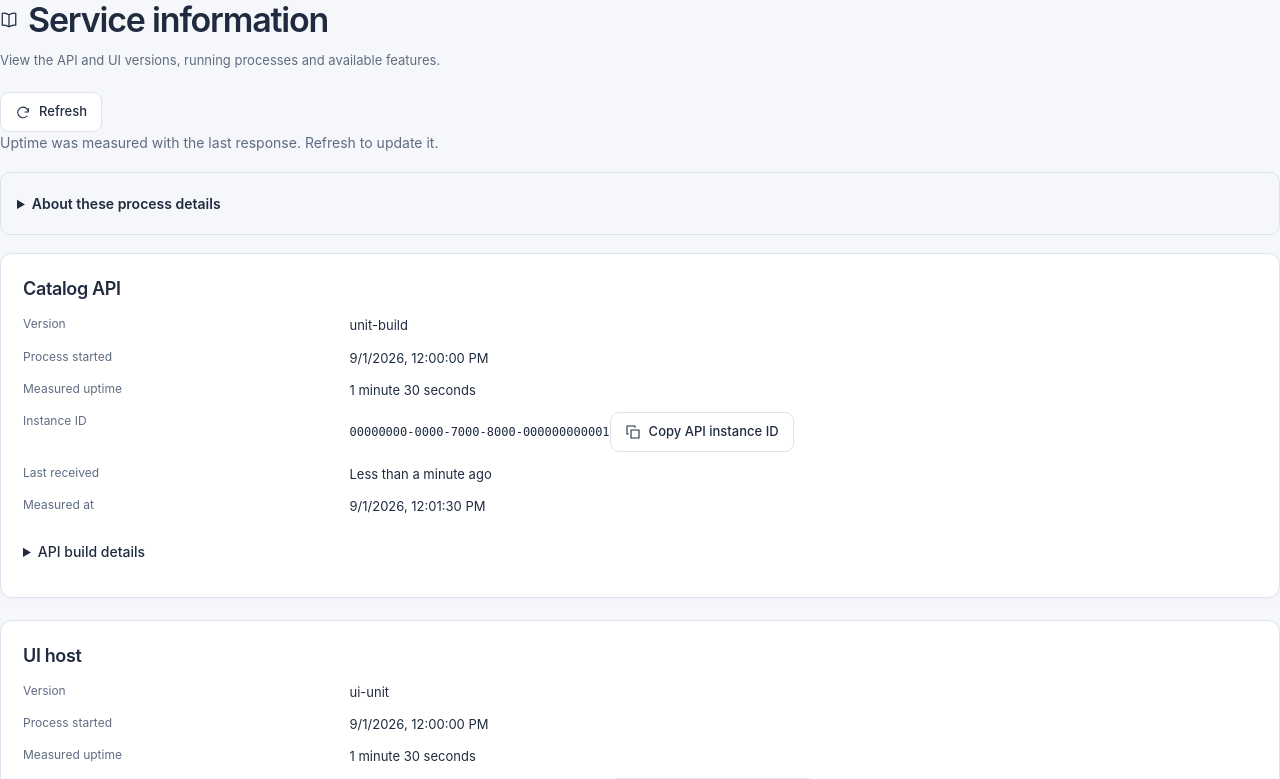
Test: replaces one API replica observation coherently while preserving the independent UI process
Expected: the text "unit-build" is shown, 350,317 -> 408,333
Expected: the text "00000000-0000-7000-8000-000000000001" is shown, 350,424 -> 610,438
Step 1. Click the button "Refresh" → [51, 112], box 0,92 -> 102,132
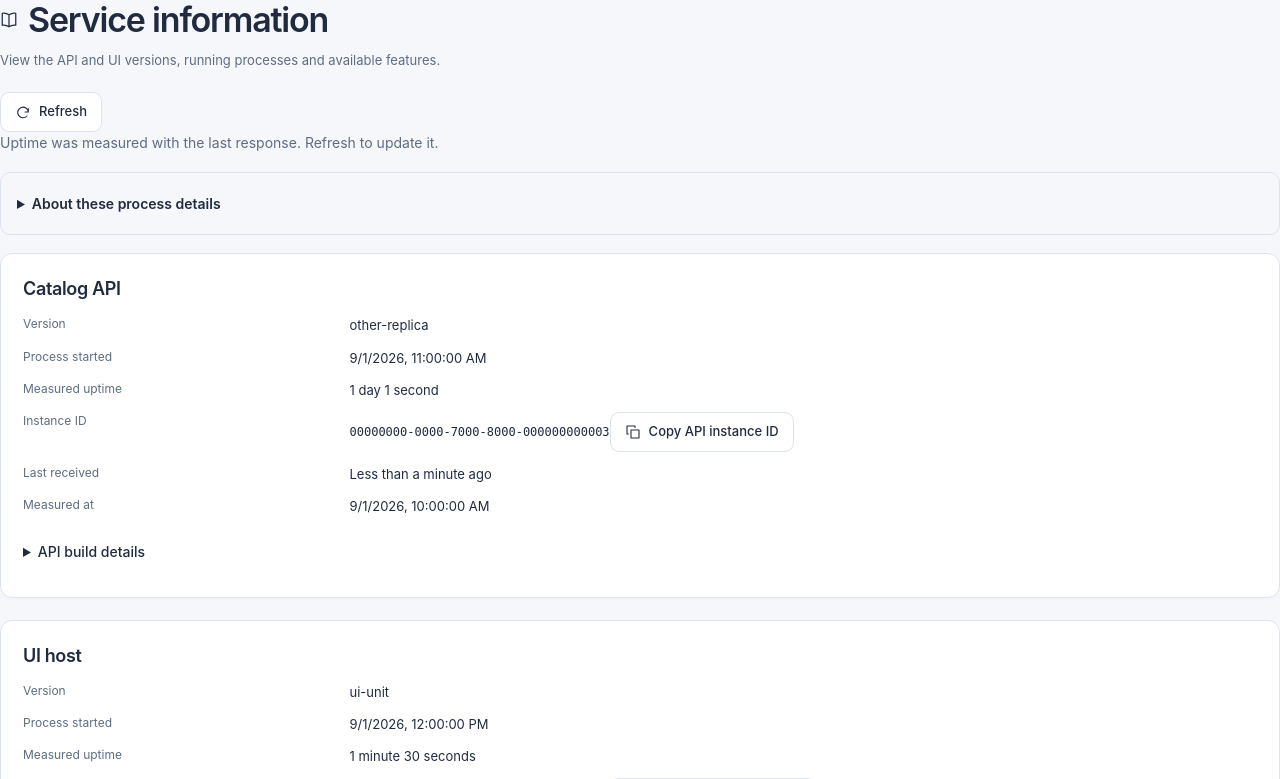
Result: the text "other-replica" is shown at 350,317 -> 428,333
Result: the text "00000000-0000-7000-8000-000000000001" is gone
Result: the text "00000000-0000-7000-8000-000000000003" is shown at 350,424 -> 610,438
Step 2. Click the button "Refresh" → [51, 112], box 0,92 -> 102,132
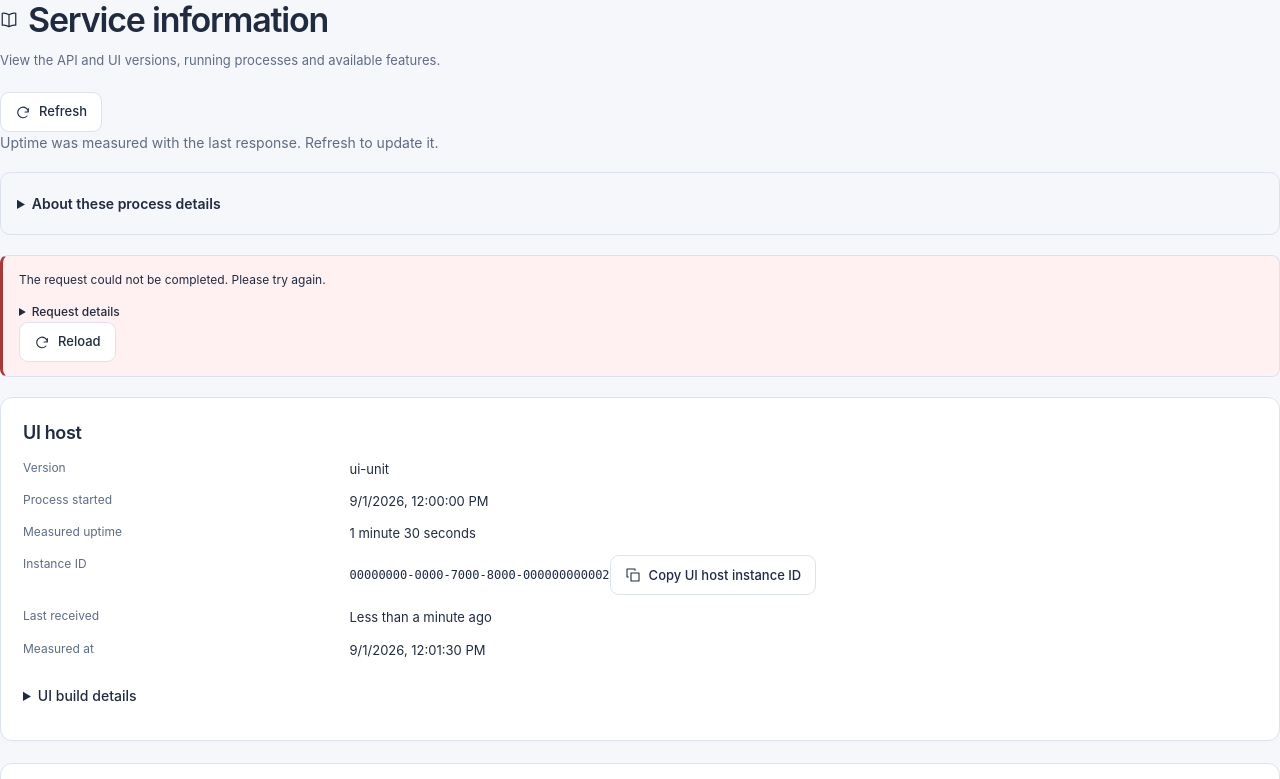
Expected: the heading "UI host" is shown, 23,422 -> 82,443
Result: the message "The request could not be completed. Please try again. Request details Reload" is shown at 0,255 -> 1279,377
Result: the heading "Catalog API" is gone
